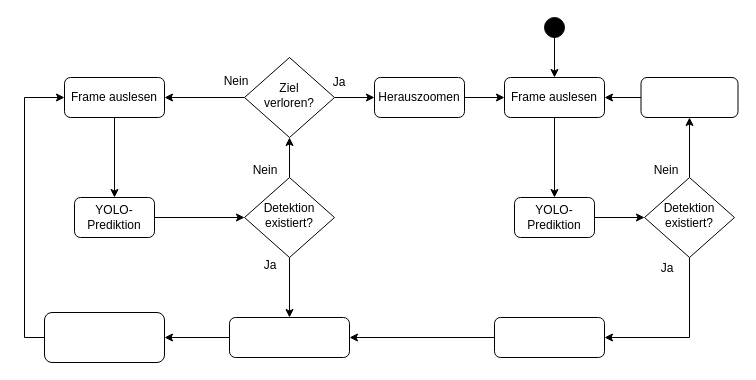
The diagram is 756 pixels wide and 380 high, and some of its shapes have lost their labels. The box of each missing label's shape, as (x1, y1, x2, y2) in pixels:
Kalman-Filter: Initialisierung: (494, 316, 604, 358)
Kalman-Filter: Predict & Update: (228, 316, 350, 358)
Kamera: Scanbewegung: (640, 76, 738, 118)
Kamera: Zielverfolgung & Zoomanpassung: (44, 312, 164, 362)
